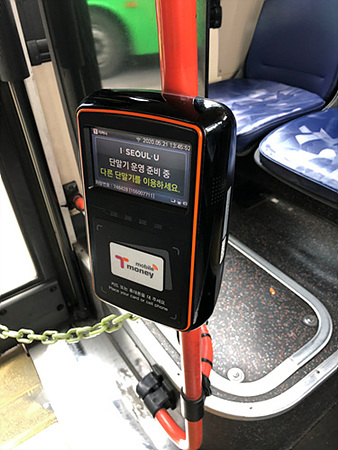terminal: (80, 90, 222, 326)
